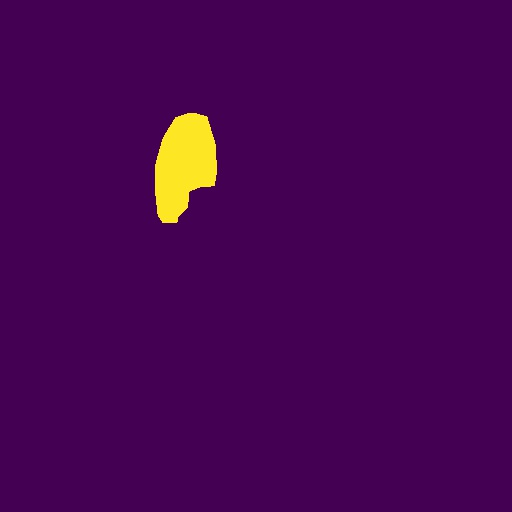Gliomia_tumour: (155, 113, 217, 223)
